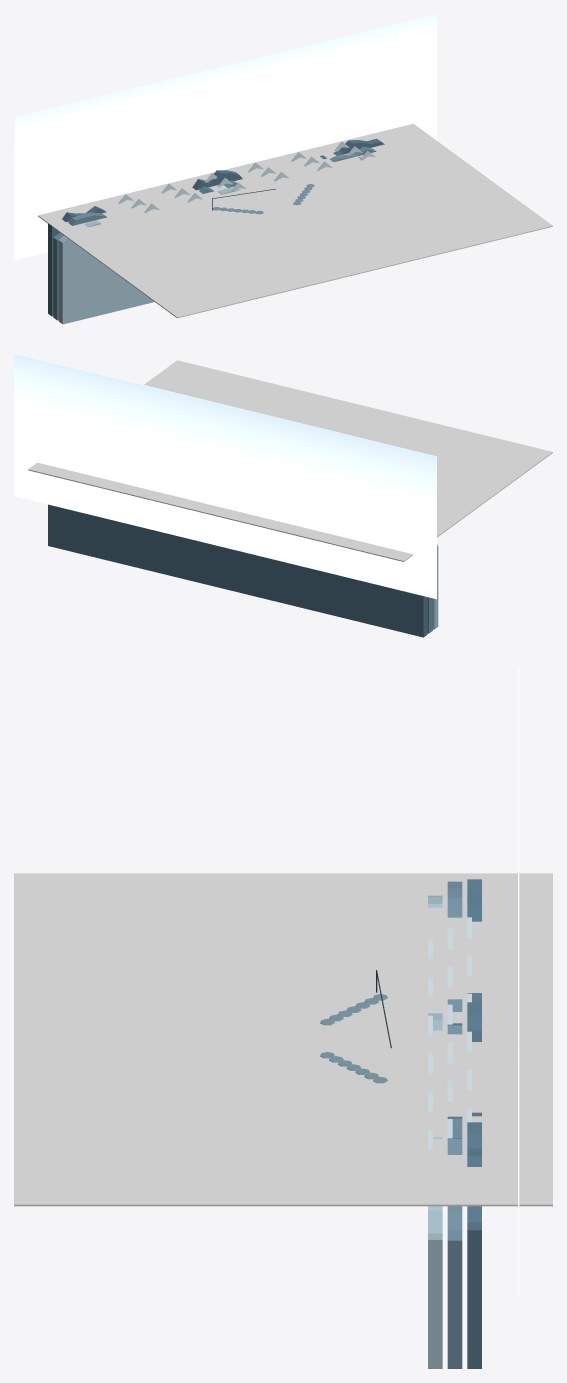
Rendered from snowquarry.glb.
3 views of the same model, one above another, from view 1: azimuth 30°, elevation 25°; view 2: azimuth 150°, elevation 25°; view 3: azimuth 270°, elevation 25° (orthographic). The views are drawn at different scales.
Parts seen in each view (by area): view 1: Ground contact / transparent shadow receiver.062, Sky gradient / editable material.062, World / terrain and architecture.025; view 2: Sky gradient / editable material.062, Ground contact / transparent shadow receiver.062, World / terrain and architecture.025; view 3: Ground contact / transparent shadow receiver.062, World / terrain and architecture.025, Sky gradient / editable material.062, Foreground / edge details.023.
Part boxes in pixels (left/top/right/bottom): Ground contact / transparent shadow receiver.062: left=38, top=123, right=552, bottom=318; Sky gradient / editable material.062: left=14, top=14, right=436, bottom=260; World / terrain and architecture.025: left=48, top=138, right=384, bottom=324; Sky gradient / editable material.062: left=14, top=353, right=436, bottom=599; Ground contact / transparent shadow receiver.062: left=28, top=360, right=552, bottom=561; World / terrain and architecture.025: left=48, top=504, right=438, bottom=637; Ground contact / transparent shadow receiver.062: left=14, top=873, right=552, bottom=1206; World / terrain and architecture.025: left=376, top=879, right=481, bottom=1368; Sky gradient / editable material.062: left=518, top=666, right=519, bottom=1296; Foreground / edge details.023: left=320, top=994, right=387, bottom=1083.
Size of the model in its own units: 180 by 79 by 110.
